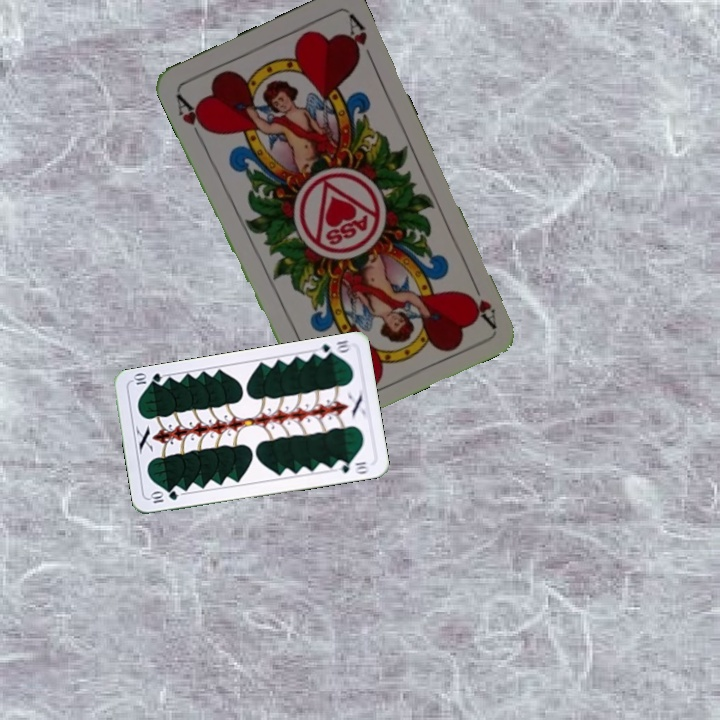G10: (312, 336, 354, 360), (146, 487, 180, 506)
HA: (461, 273, 499, 330), (172, 90, 212, 144)
